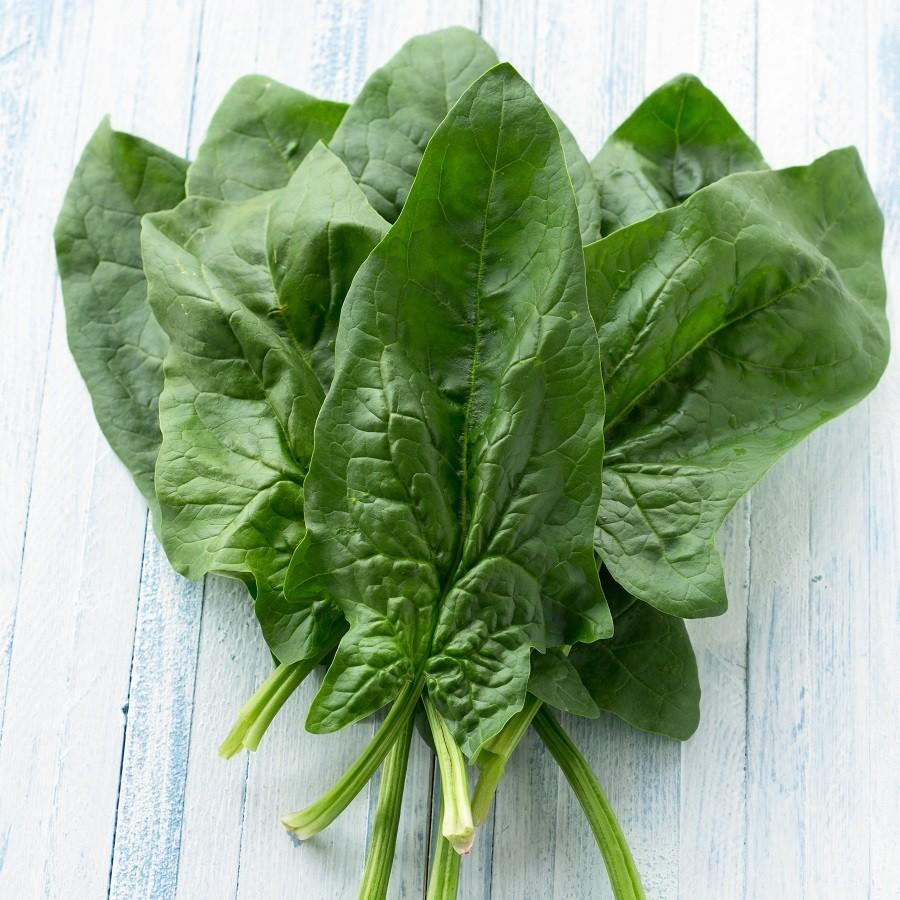spinach: (51, 26, 891, 897)
